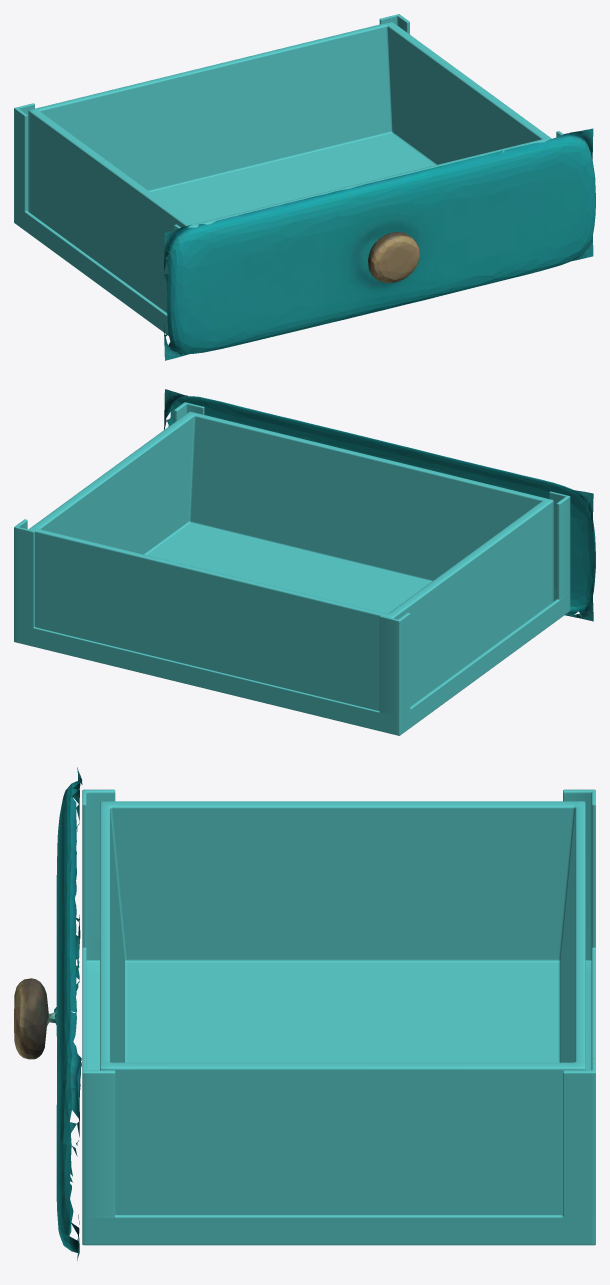
The model's file is drawer.glb.
3 views of the same model, one above another, from view 1: azimuth 30°, elevation 25°; view 2: azimuth 150°, elevation 25°; view 3: azimuth 270°, elevation 25° (orthographic). The views are drawn at different scales.
Parts seen in each view (by area): view 1: prefab_drawer_body_1, source_front_cap_0; view 2: prefab_drawer_body_1, source_front_cap_0; view 3: prefab_drawer_body_1, source_front_cap_0.
Part boxes in pixels (x1,y1,x2,y2): prefab_drawer_body_1: (14,14,563,335); source_front_cap_0: (164,128,595,360); prefab_drawer_body_1: (14,402,570,735); source_front_cap_0: (164,389,595,621); prefab_drawer_body_1: (82,789,595,1245); source_front_cap_0: (14,767,82,1260).
Size of the model in its own units: 0.2024 by 0.0577 by 0.1584.
Materials: 2 (1 with a texture image).
